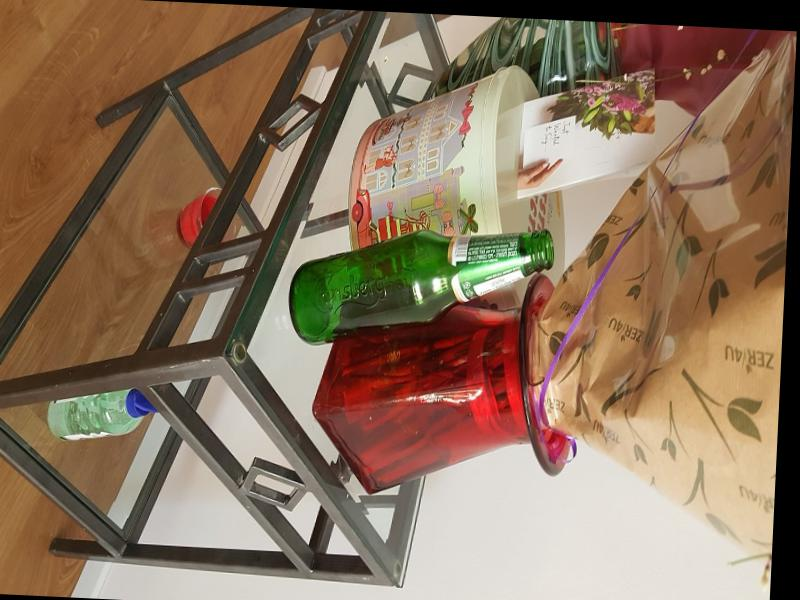Beer: (285, 220, 556, 354)
